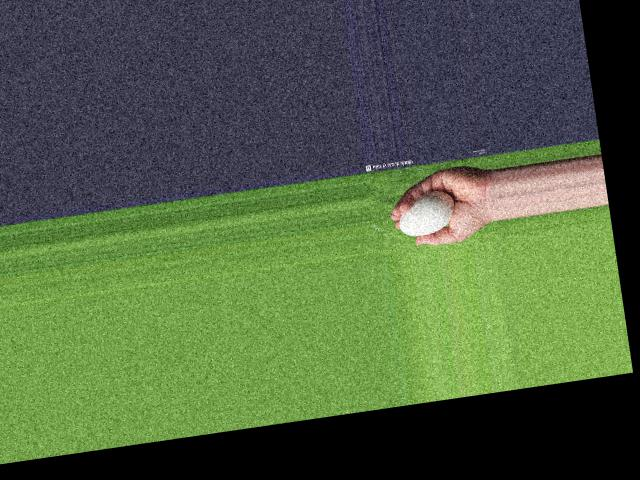egg: (395, 187, 459, 238)
